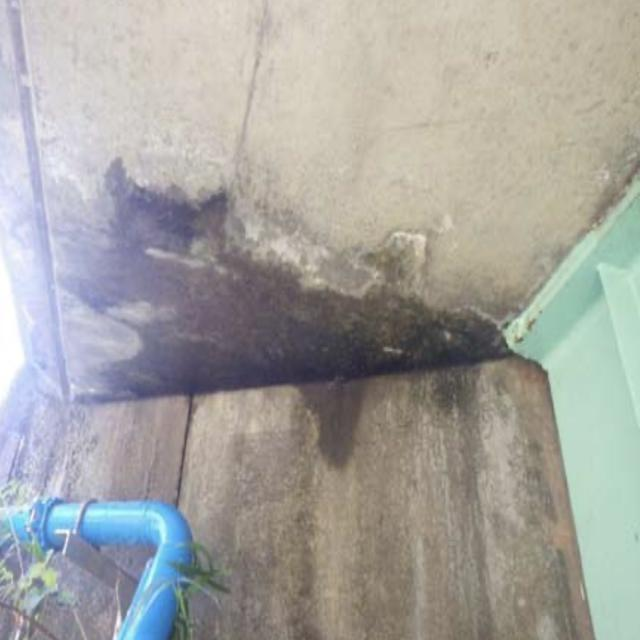leakage: (54, 203, 524, 456)
